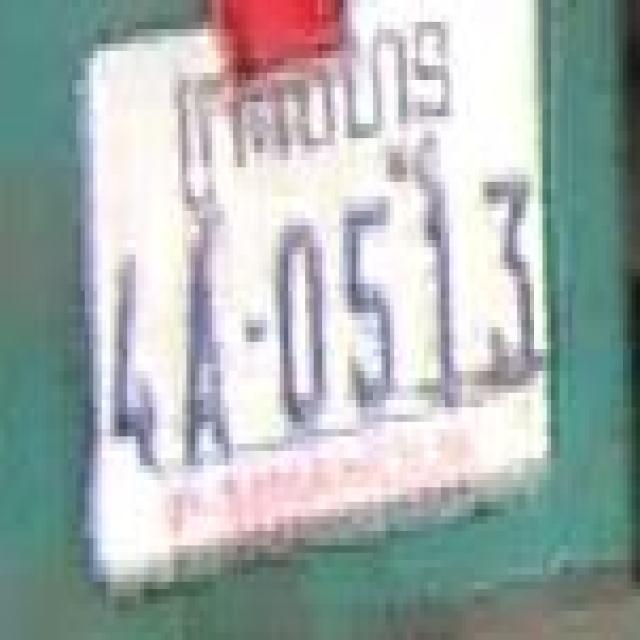Preah_Sihanouk: (178, 15, 450, 208)
